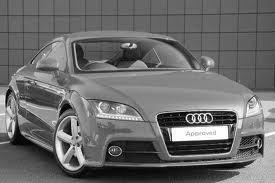car: (1, 31, 269, 176)
